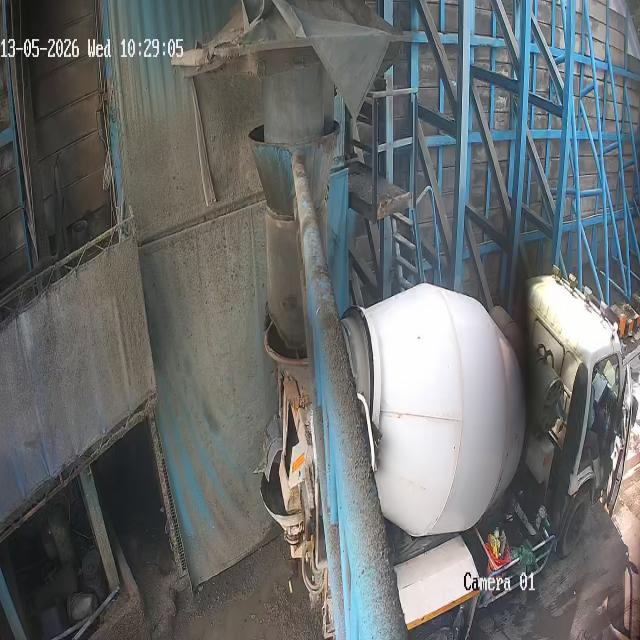cement_mixer_truck: (261, 273, 638, 640)
swing_chute: (249, 119, 342, 344)
